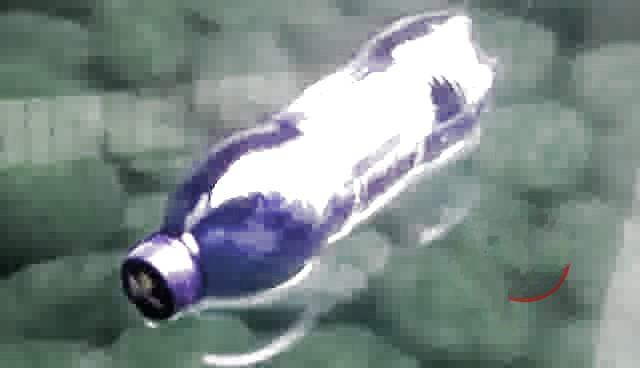Plastic: (116, 5, 500, 326)
